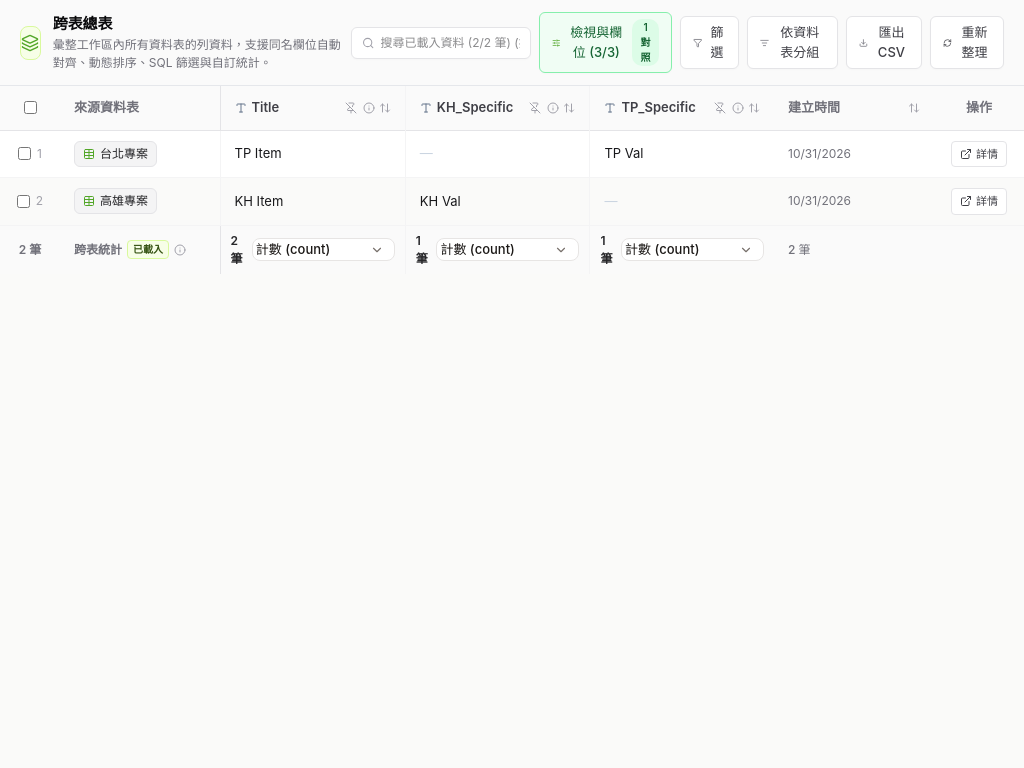
Test: MasterGridView UI Component › supports deep integration with hierarchical grouping, table focus, and smart column pruning
Expected: the text "TP Item" is shown, [234, 144, 282, 164]
Note: Open Hub
What coordinates should you click on to do the following:
click the button with test id "toggle-columns-btn"
I would click on:
 (605, 42)
Its box is [539, 12, 672, 73].
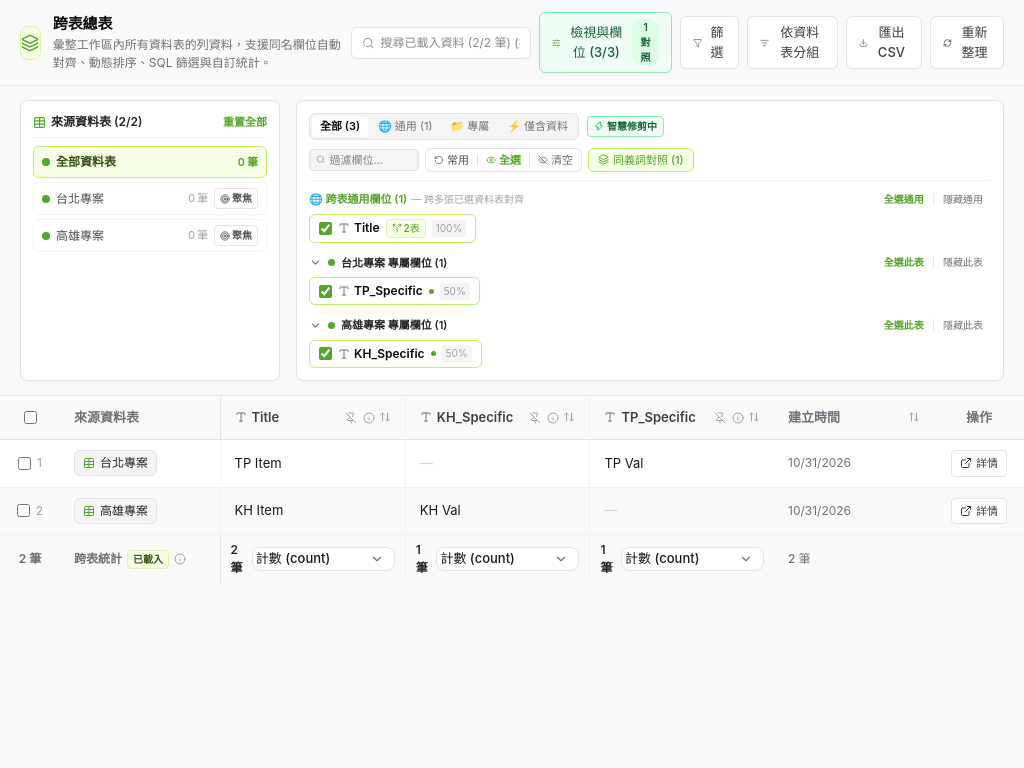
Expected: the text "🌐 跨表通用欄位 (1) — 跨多張已選資料表對齊" is shown, [309, 191, 524, 208]
Expected: the text "台北專案 專屬欄位 (1)" is shown, [341, 254, 447, 271]
Expected: the text "高雄專案 專屬欄位 (1)" is shown, [341, 317, 447, 334]
Note: Test Focus Table 1
What coordinates should you click on to do the following:
click the button with test id "focus-table-btn-1"
I would click on:
 (236, 198)
Its box is [214, 188, 258, 209].
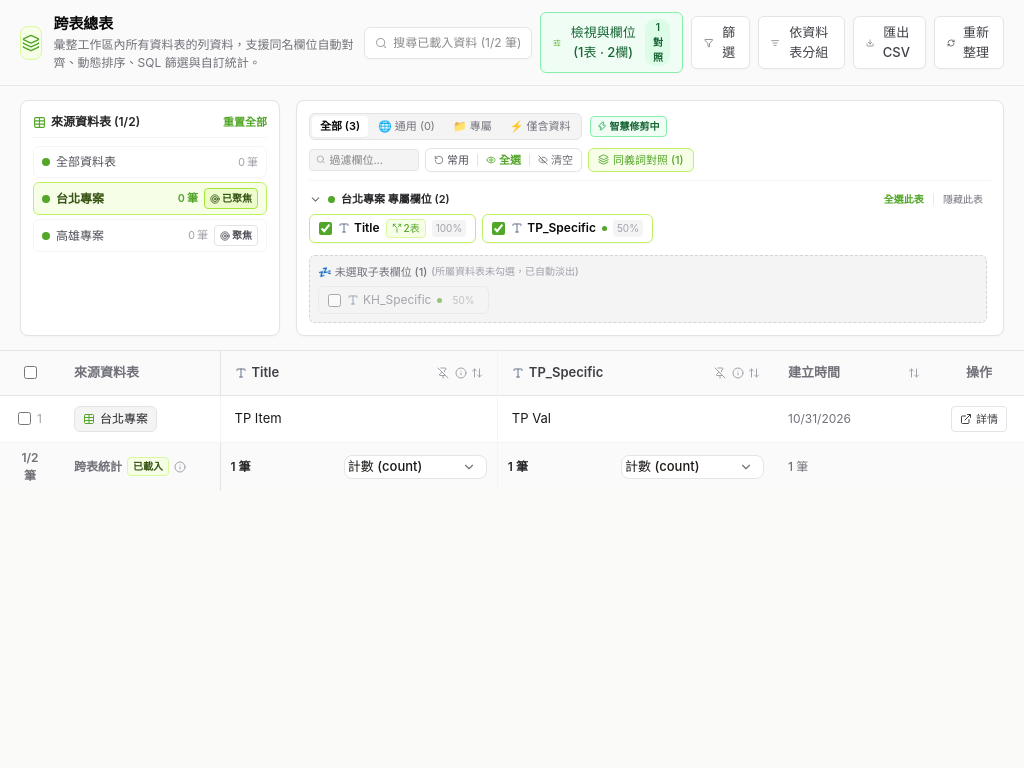
Expected: the text "TP Item" is shown, [234, 409, 282, 428]
Expected: the text "KH Item" is gone
Note: Test Smart Column Pruning toggle
What coordinates should you click on to do the following:
click the button with test id "toggle-smart-prune-btn"
I would click on:
 (628, 126)
Its box is [590, 116, 666, 137].
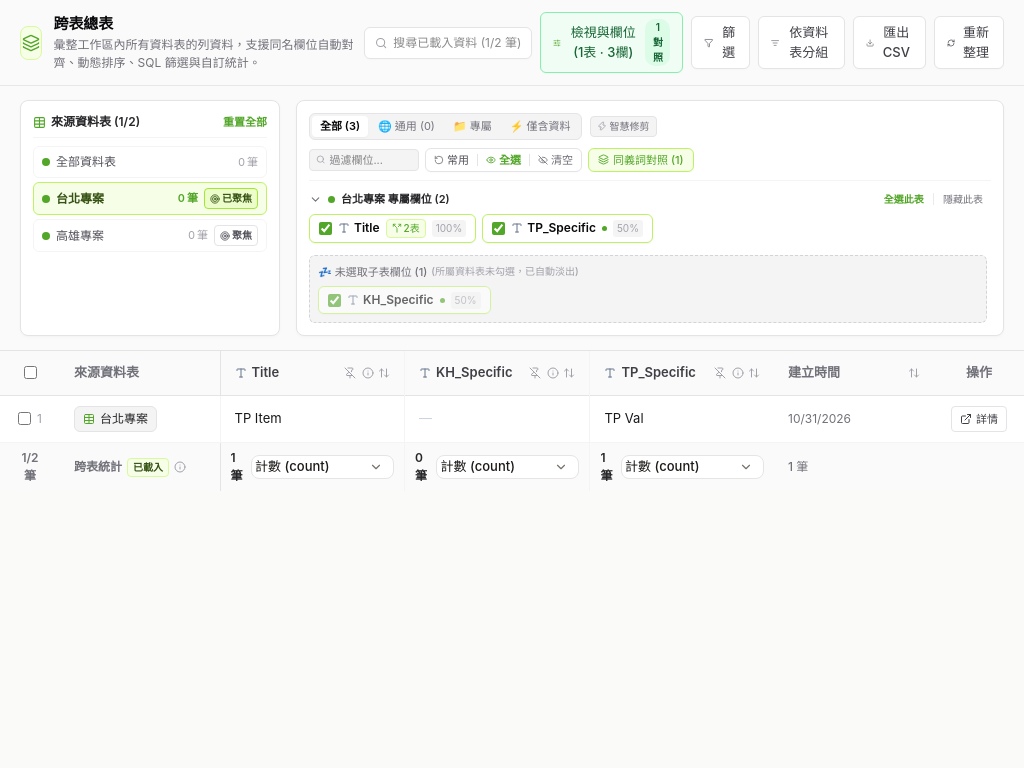
Expected: the text "💤 未選取子表欄位 (1) (所屬資料表未勾選，已自動淡出)" is shown, [318, 264, 579, 280]
Note: Test Clear All Columns button
What coordinates should you click on to do the following:
click the button with test id "clear-all-columns-btn"
I would click on:
 (556, 160)
Its box is [530, 148, 581, 171].
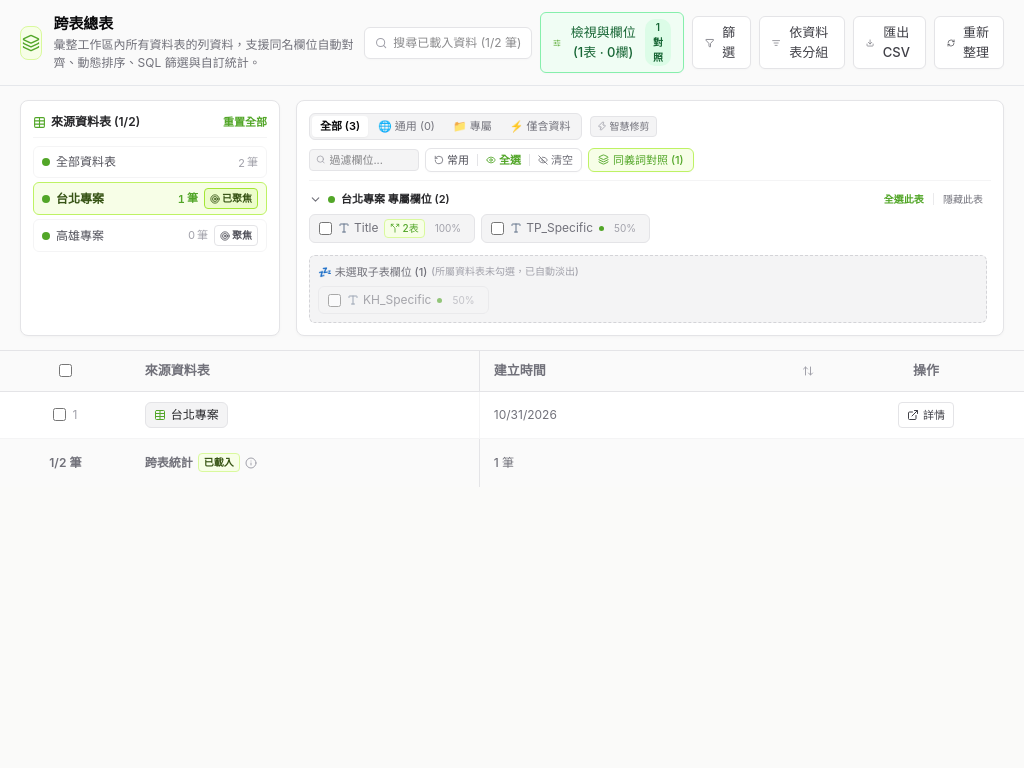
Expected: the column heading with test id "sort-header-Title" is gone
Note: Test Select All Columns button
What coordinates should you click on to do the following:
click the button with test id "select-all-columns-btn"
I would click on:
 (504, 160)
Its box is [478, 148, 529, 171].
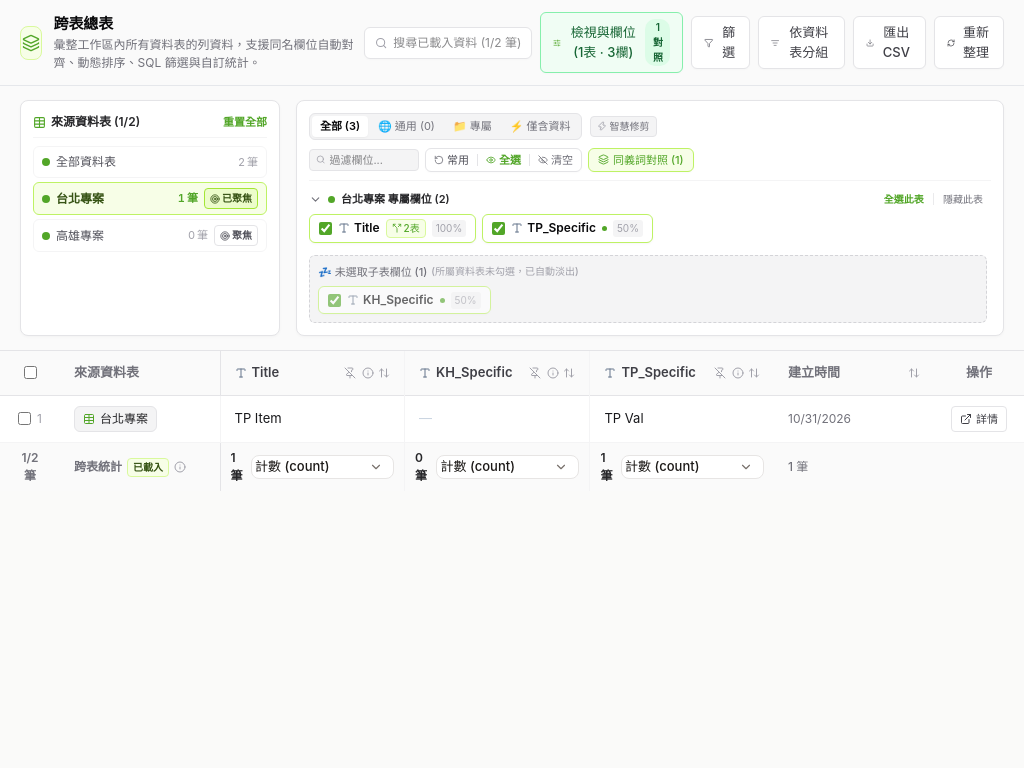
Expected: the column heading with test id "sort-header-Title" is shown, [220, 351, 404, 395]
